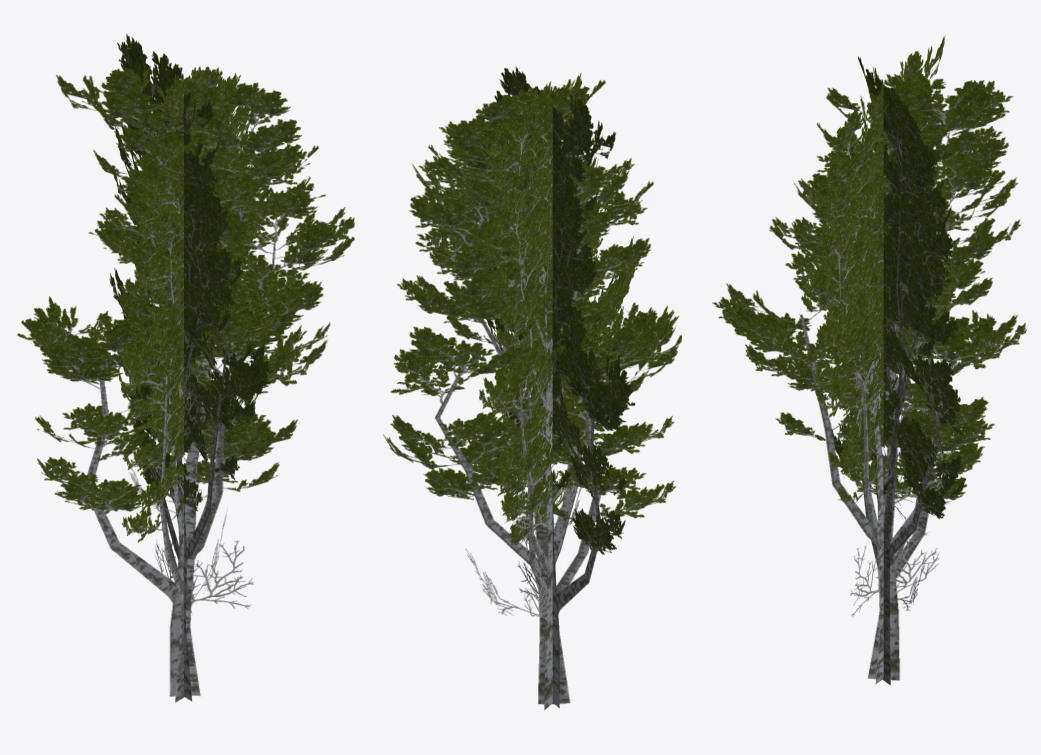
The model's file is Birch_C.glb.
3 renders of one model, left to right at view 1: azimuth 30°, elevation 25°; view 2: azimuth 150°, elevation 25°; view 3: azimuth 270°, elevation 25°, orthographic. The views are drawn at different scales.
Parts seen in each view (by area): view 1: BirchTreeC_LOD0; view 2: BirchTreeC_LOD0; view 3: BirchTreeC_LOD0.
Boxes of the visible parts, x1,y1,x2,y2 form: BirchTreeC_LOD0: [17, 33, 354, 702]; BirchTreeC_LOD0: [383, 67, 681, 710]; BirchTreeC_LOD0: [712, 35, 1026, 685].
Size of what is drawn, in the model's own units: 5.12 by 12.07 by 5.71.
1 material, 1 textured.
